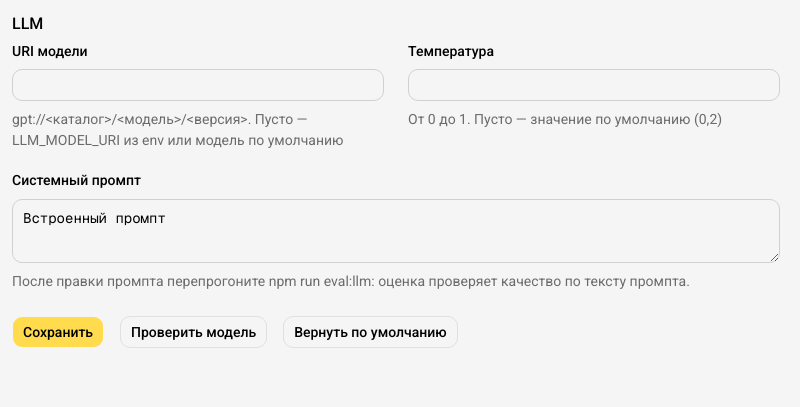
LlmSettingsForm › валидная форма → action получает строки формы, показывается «Сохранено»
This screenshot has width=800, height=407.
Type "0,5" into the field labelled "Температура" at (594, 85), box [408,69,780,101]
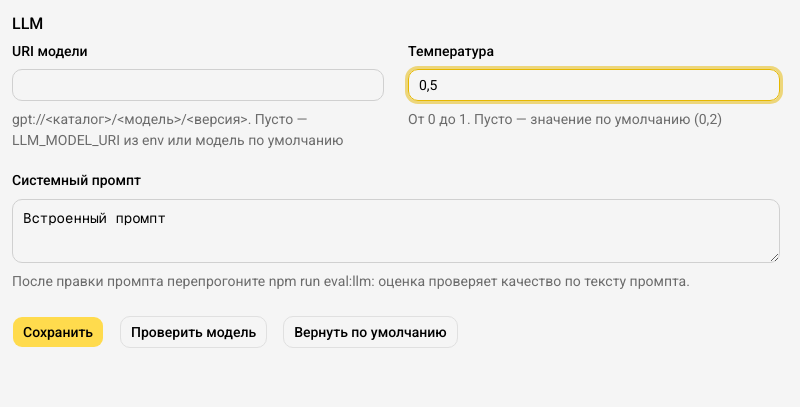
Click the button "Сохранить" at (58, 332), box [12,316,104,348]
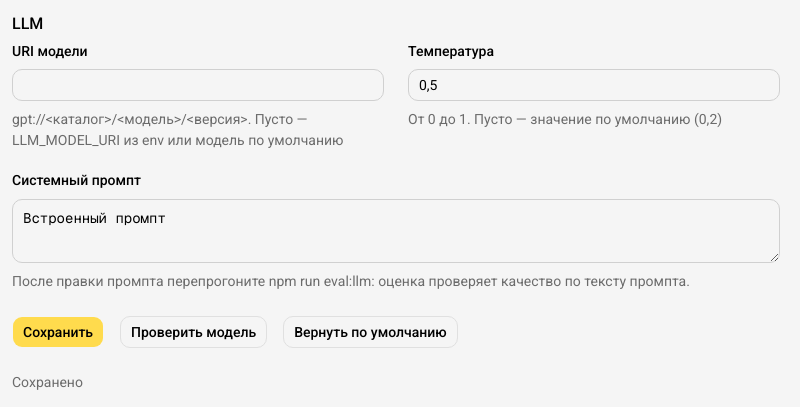
Now the text "Сохранено" is shown, box [12,374,83,390]
